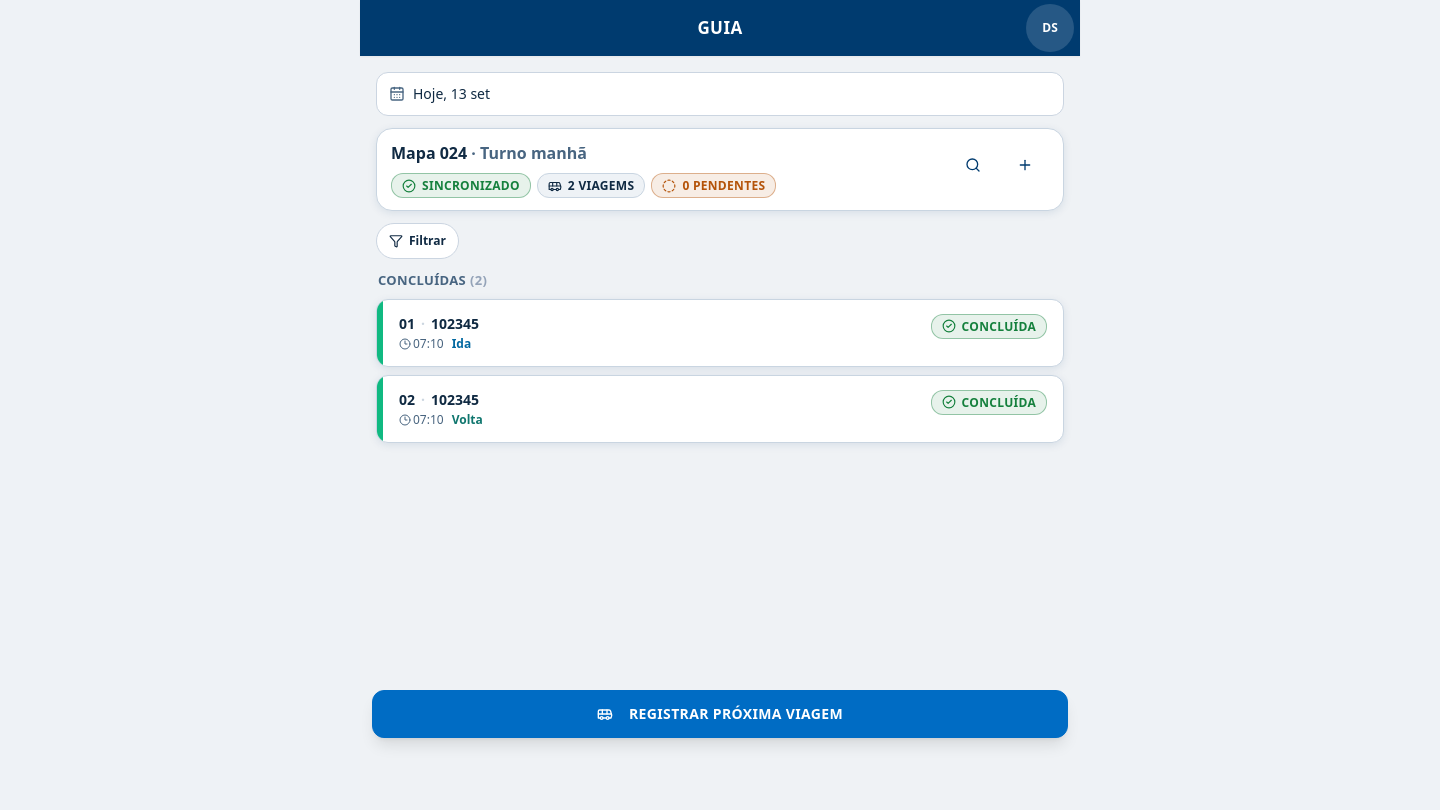
Scenario: GuiaScreen › abre detalhe da viagem com leituras independentes
What coordinates should you click on to do the following:
click the button with aria-label "viagem 01, ida"
I would click on:
 (455, 323)
Its box is [376,298,1064,366].
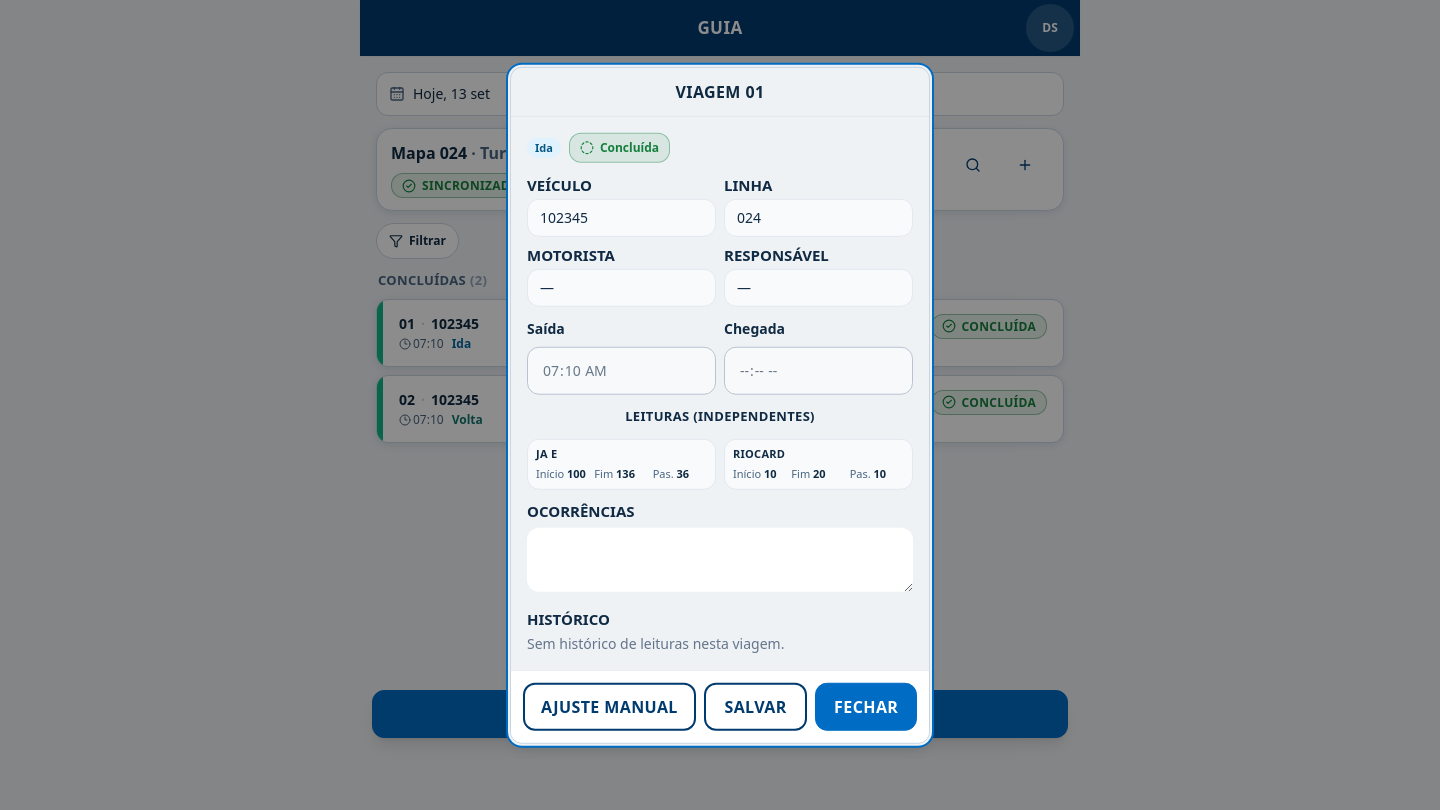
Check: the heading "Viagem 01" is shown, box [676,81,764,103]
Check: the text "Leituras (independentes)" is shown, box [625,407,815,425]
Check: the text "Histórico" is shown, box [527,609,610,629]
